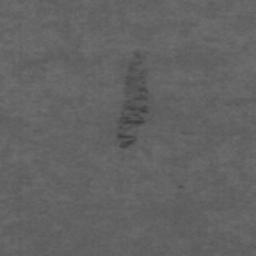Secondary rust skin: (116, 50, 151, 149)
